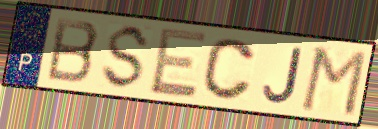B: (44, 15, 102, 86)
C: (200, 36, 257, 103)
E: (148, 25, 210, 100)
J: (260, 46, 304, 106)
M: (297, 45, 370, 119)
S: (98, 23, 154, 92)
